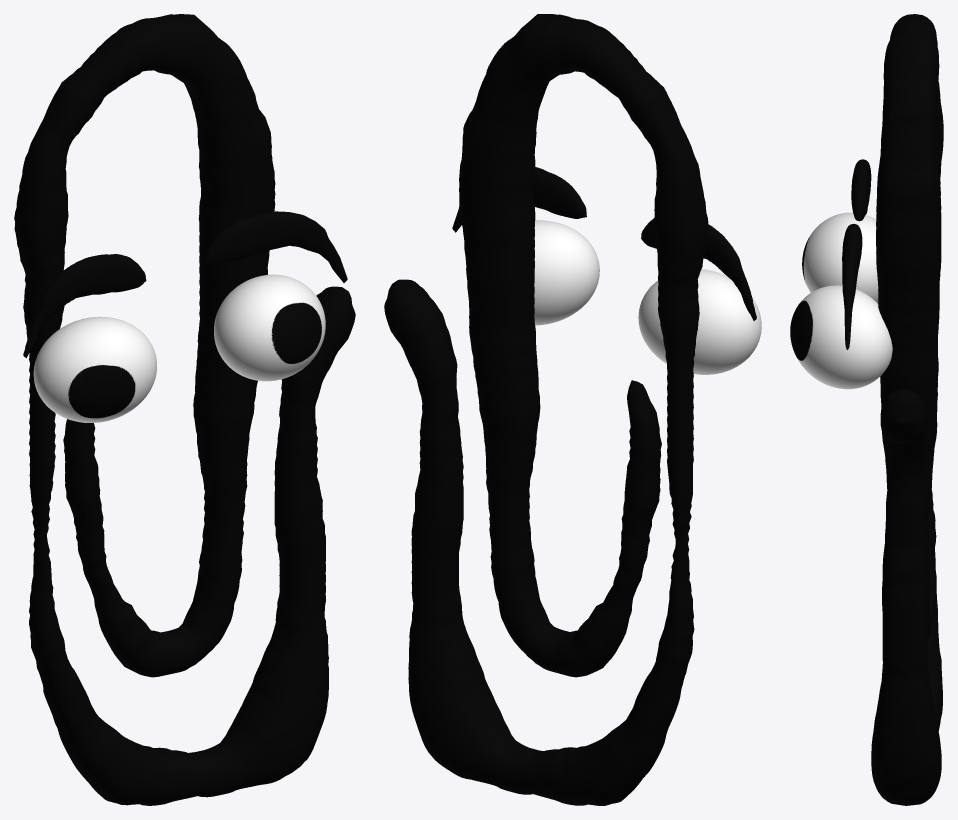
Rendered from Clippy.glb.
3 views of the same model, side by side, from view 1: azimuth 30°, elevation 25°; view 2: azimuth 150°, elevation 25°; view 3: azimuth 270°, elevation 25° (orthographic). The views are drawn at different scales.
Parts seen in each view (by area): view 1: node_id30, node_id36, node_id38, node_id34, node_id32; view 2: node_id30, node_id36, node_id38, node_id32, node_id34; view 3: node_id30, node_id38, node_id36, node_id34, node_id32.
Boxes of the visible parts, x1=… form: node_id30: x1=14, y1=14, x2=355, y2=805; node_id36: x1=33, y1=316, x2=156, y2=422; node_id38: x1=214, y1=274, x2=325, y2=381; node_id34: x1=204, y1=211, x2=347, y2=282; node_id32: x1=23, y1=254, x2=146, y2=358; node_id30: x1=384, y1=14, x2=708, y2=805; node_id36: x1=638, y1=269, x2=761, y2=374; node_id38: x1=534, y1=220, x2=599, y2=325; node_id32: x1=641, y1=218, x2=756, y2=320; node_id34: x1=452, y1=167, x2=586, y2=232; node_id30: x1=871, y1=14, x2=943, y2=805; node_id38: x1=790, y1=285, x2=892, y2=389; node_id36: x1=802, y1=212, x2=878, y2=303; node_id34: x1=842, y1=224, x2=862, y2=349; node_id32: x1=851, y1=159, x2=871, y2=221.
Size of the model in its own units: 0.2398 by 0.512 by 0.097.
5 materials, 5 textured.
